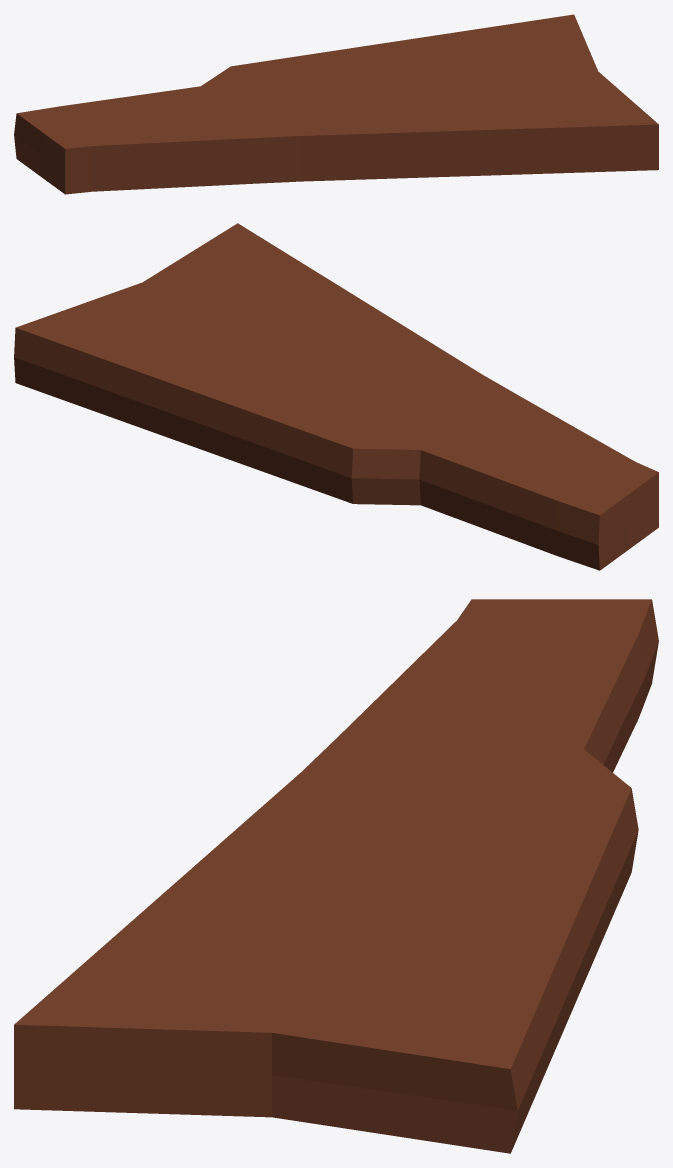
The model's file is buildgun_stock2.fbx.
3 renders of one model, top to bottom at view 1: azimuth 30°, elevation 25°; view 2: azimuth 150°, elevation 25°; view 3: azimuth 270°, elevation 25°, orthographic. The views are drawn at different scales.
Parts seen in each view (by area): view 1: BuildGun_Stock; view 2: BuildGun_Stock; view 3: BuildGun_Stock.
Boxes of the visible parts, x1=… form: BuildGun_Stock: x1=14, y1=14, x2=658, y2=194; BuildGun_Stock: x1=14, y1=223, x2=658, y2=570; BuildGun_Stock: x1=14, y1=599, x2=658, y2=1153.
Bounding box in the file's own units: 126 × 10.57 × 73.11.
